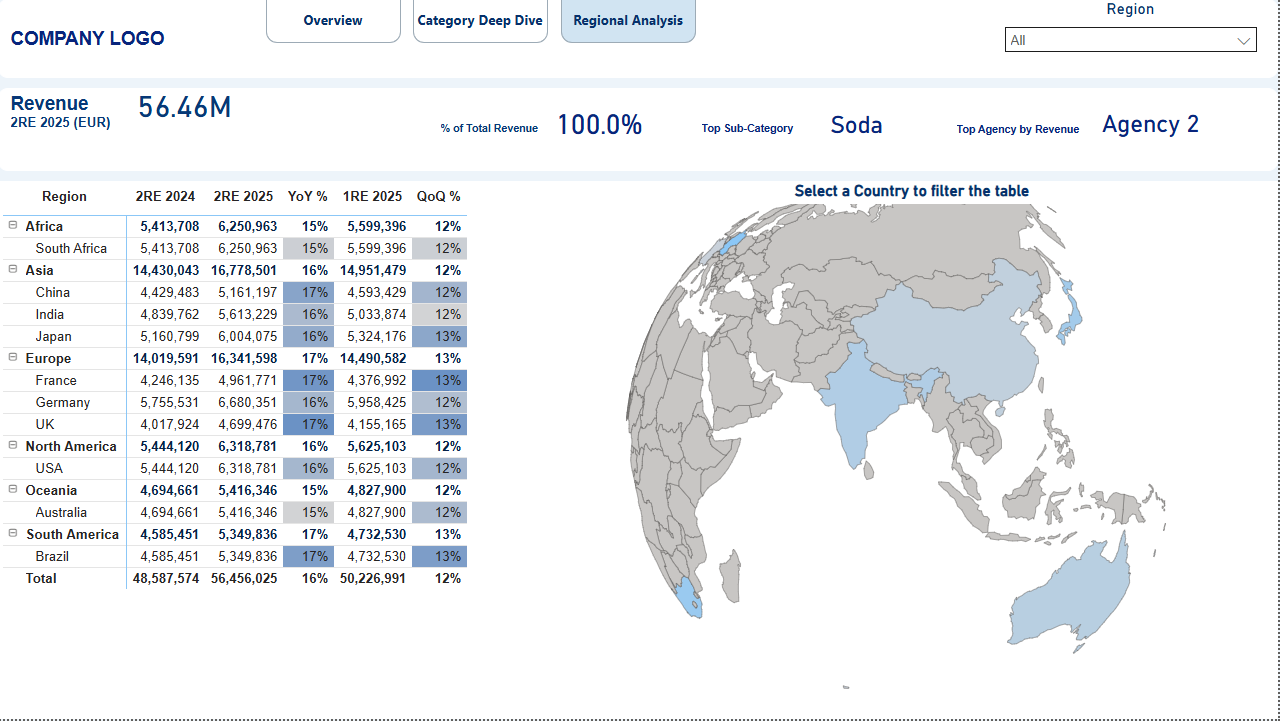

This screenshot's page, from the dashboard's own definition file:
{"tool":"powerbi","page":{"name":"Regional Analysis","canvas":[1280,720],"ordinal":2},"visuals":[{"type":"textbox","box":[954.2,117.2,177.7,27.2],"z":0,"group":"g2"},{"type":"shapeMap","title":"Select a Country to filter the table","fields":{"Category":["DimGeo.Country"],"Value":["Fact Table.Revenue (This Quarter)"]},"box":[548.6,181.9,731.4,537.9],"z":0},{"type":"shape","box":[0,88.5,1280,83.6],"z":1000},{"type":"card","fields":{"Values":["DimAgency.Top Agencies by Revenue"]},"box":[1094,92.4,117,63.2],"z":1000,"group":"g2"},{"type":"shape","box":[0,0,1280,78.8],"z":2000},{"type":"group","id":"g1","title":"Group 1","box":[699.3,88.5,240.2,72],"z":3000},{"type":"group","id":"g2","title":"Group 2","box":[954.2,92.4,256.8,63.2],"z":4000},{"type":"group","id":"g3","title":"Group 3","box":[437.7,89,222.1,69.1],"z":5000},{"type":"textbox","box":[7.8,88.5,144,54.5],"z":6000},{"type":"card","fields":{"Values":["Fact Table.Revenue (Latest Period)"]},"box":[71,67.1,229.5,75.9],"z":7000},{"type":"textbox","box":[7.8,24.3,178,38.9],"z":8000},{"type":"pivotTable","fields":{"Rows":["DimGeo.Region","DimGeo.Country"],"Values":["Fact Table.2RE 2024","Fact Table.2RE 2025","Fact Table.YoY %","Fact Table.1RE 2025","Fact Table.QoQ %"]},"box":[0,181.9,574.8,537.9],"z":9000},{"type":"slicer","title":"Region","fields":{"Values":["DimGeo.Region"]},"box":[997.4,0,271.1,67.3],"z":10000},{"type":"textbox","box":[437.7,116.2,151,27.2],"z":10000,"group":"g3"},{"type":"shape","box":[268,0,135,44],"z":11000},{"type":"textbox","box":[699.3,115.3,119.9,27.2],"z":11000,"group":"g1"},{"type":"shape","box":[415,0,135,44],"z":12000},{"type":"card","fields":{"Values":["Fact Table.% of Total Revenue"]},"box":[542.1,89,117.7,69.1],"z":12001,"group":"g3"},{"type":"card","fields":{"Values":["DimBrand.Top Sub-category (by Revenue)"]},"box":[778.7,88.5,160.5,72],"z":12002,"group":"g1"},{"type":"shape","box":[563,0,135,44],"z":13000}]}

Visuals, with their boxes in screenshot pixels (x1, y1, x2, y2), scaled from the page's 1280x720 canvas onto the 1280x721 screenshot:
textbox: {"left": 954, "top": 117, "right": 1132, "bottom": 145}
"Select a Country to filter the table" shapeMap: {"left": 549, "top": 182, "right": 1279, "bottom": 720}
shape: {"left": 0, "top": 89, "right": 1279, "bottom": 172}
card - DimAgency.Top Agencies by Revenue: {"left": 1094, "top": 93, "right": 1211, "bottom": 156}
shape: {"left": 0, "top": 0, "right": 1279, "bottom": 79}
"Group 1" group: {"left": 699, "top": 89, "right": 940, "bottom": 161}
"Group 2" group: {"left": 954, "top": 93, "right": 1211, "bottom": 156}
"Group 3" group: {"left": 438, "top": 89, "right": 660, "bottom": 158}
textbox: {"left": 8, "top": 89, "right": 152, "bottom": 143}
card - Fact Table.Revenue (Latest Period): {"left": 71, "top": 67, "right": 300, "bottom": 143}
textbox: {"left": 8, "top": 24, "right": 186, "bottom": 63}
pivotTable - DimGeo.Region x DimGeo.Country: {"left": 0, "top": 182, "right": 575, "bottom": 720}
"Region" slicer: {"left": 997, "top": 0, "right": 1268, "bottom": 67}
textbox: {"left": 438, "top": 116, "right": 589, "bottom": 144}
shape: {"left": 268, "top": 0, "right": 403, "bottom": 44}
textbox: {"left": 699, "top": 115, "right": 819, "bottom": 143}
shape: {"left": 415, "top": 0, "right": 550, "bottom": 44}
card - Fact Table.% of Total Revenue: {"left": 542, "top": 89, "right": 660, "bottom": 158}
card - DimBrand.Top Sub-category (by Revenue): {"left": 779, "top": 89, "right": 939, "bottom": 161}
shape: {"left": 563, "top": 0, "right": 698, "bottom": 44}
